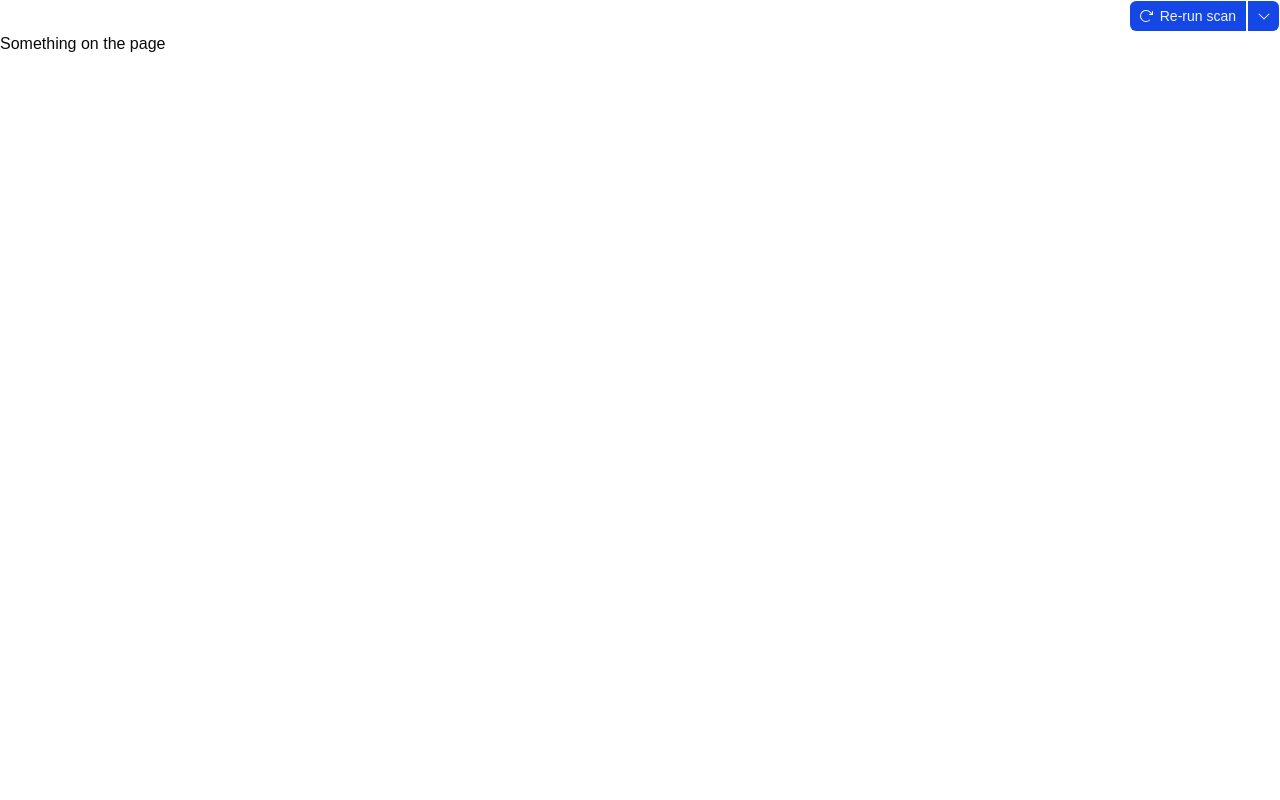
Scenario: a scan takes over the page: modal, labelled, focus inside, the page behind inert
Click the button "Re-run scan" at (1188, 16), box [1129,0,1247,32]
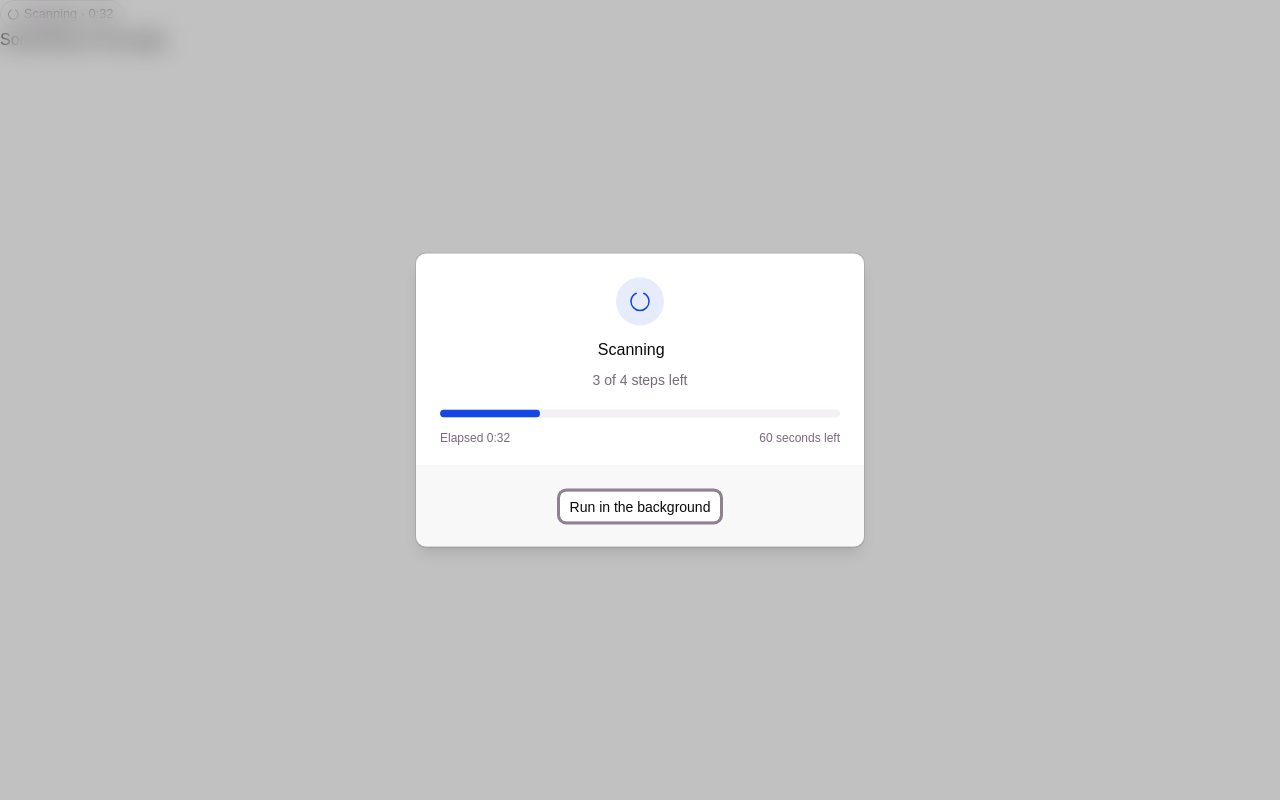
Expected: the text "3 of 4 steps left" is shown, [592,370,688,390]
Expected: the dialog reads "Scanning 3 of 4 steps left Elapsed 0:32 60 seconds left Run in the background", [416,254,864,546]
Expected: the button "Run in the background" is shown, [559,490,722,522]
